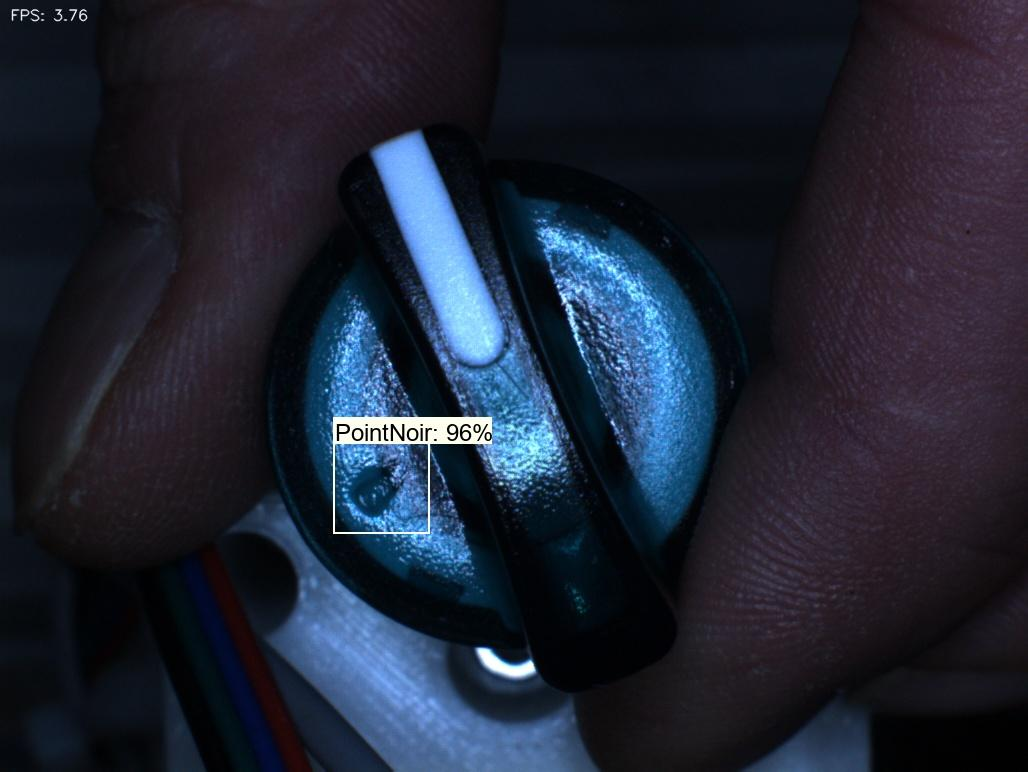Choc: (334, 447, 418, 536)
